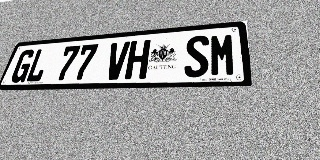7: (71, 44, 99, 81), (53, 45, 81, 81)
G: (9, 49, 36, 83)
H: (124, 40, 151, 79)
L: (24, 48, 52, 82)
M: (210, 33, 236, 77)
S: (184, 35, 209, 78)
V: (103, 41, 130, 80)
